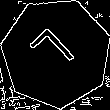L_SE: (28, 24, 84, 82)
